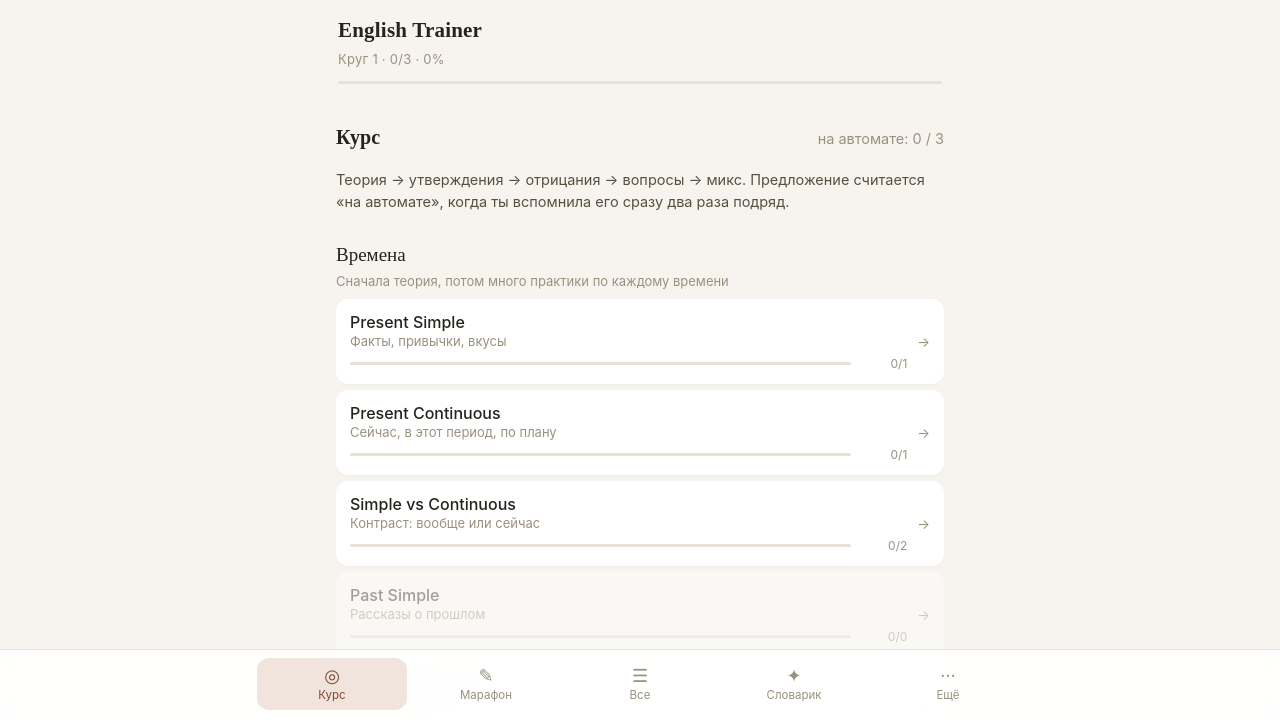
Scenario: словарик › нажатие на слово добавляет его в словарик с подсказкой перевода, удаление убирает
This screenshot has width=1280, height=720.
Click the button "✎ Марафон" at point(486, 684), box [411, 658, 561, 710]
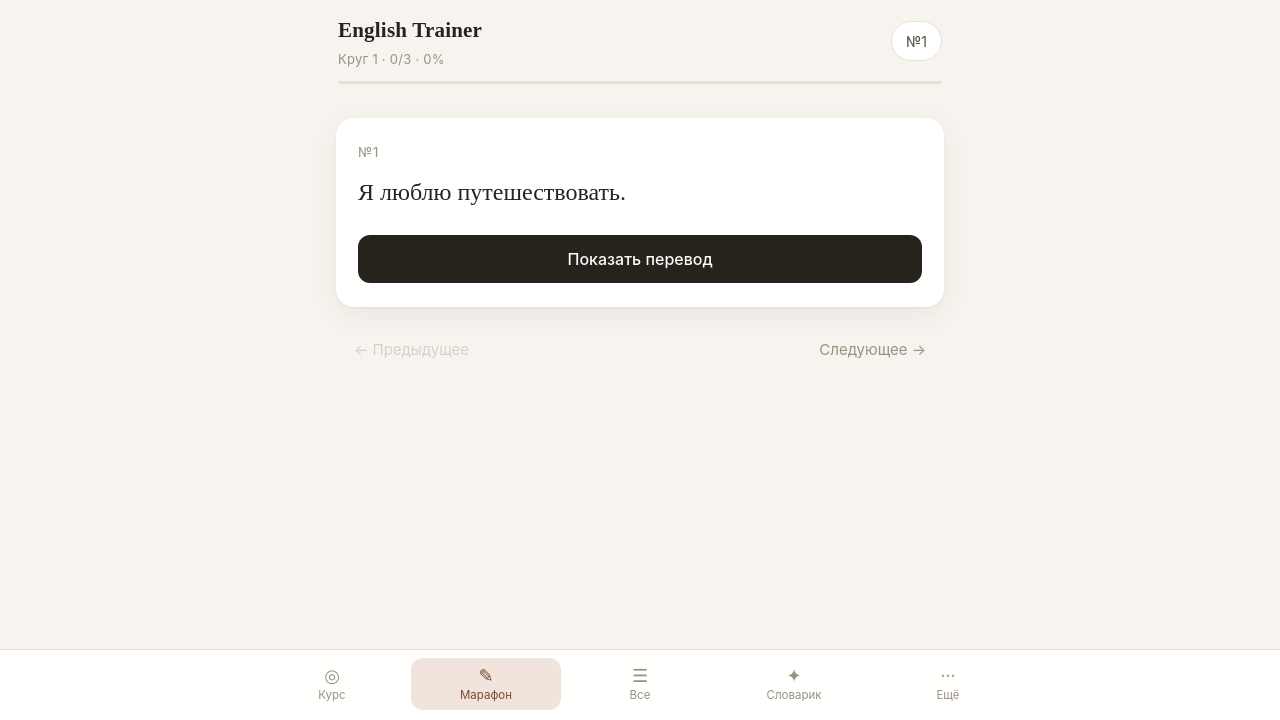
Click the button "Показать перевод" at point(640, 259), box [358, 235, 922, 283]
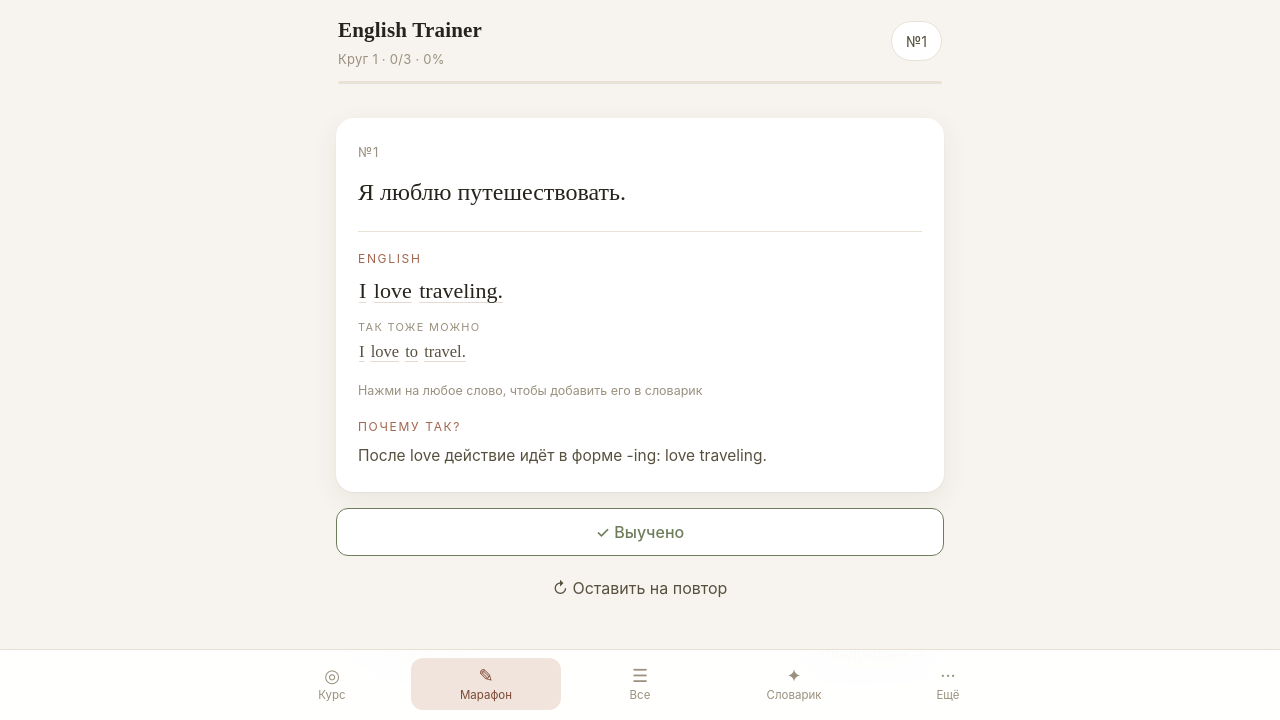
Click the button "traveling." at point(461, 291), box [418, 275, 504, 307]
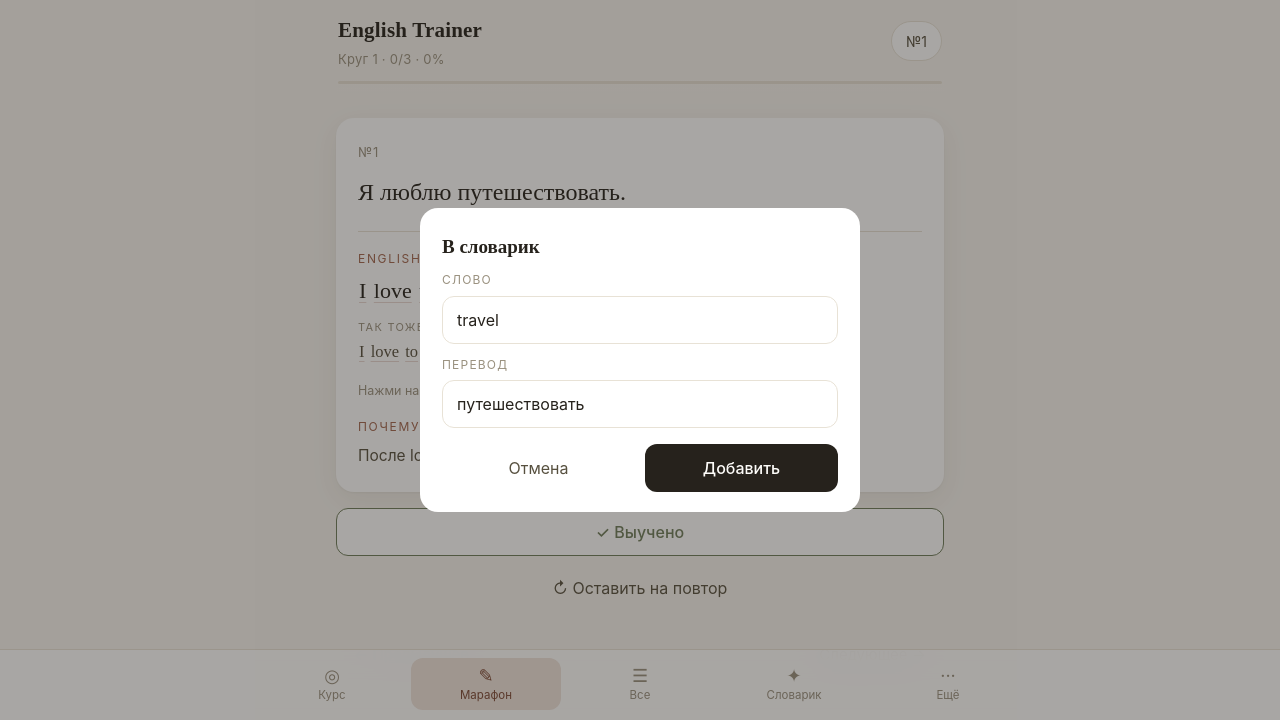
Expected: the field showing "путешествовать" is shown, [442, 380, 838, 428]
Click the button "Добавить" at point(742, 468), box [645, 444, 838, 492]
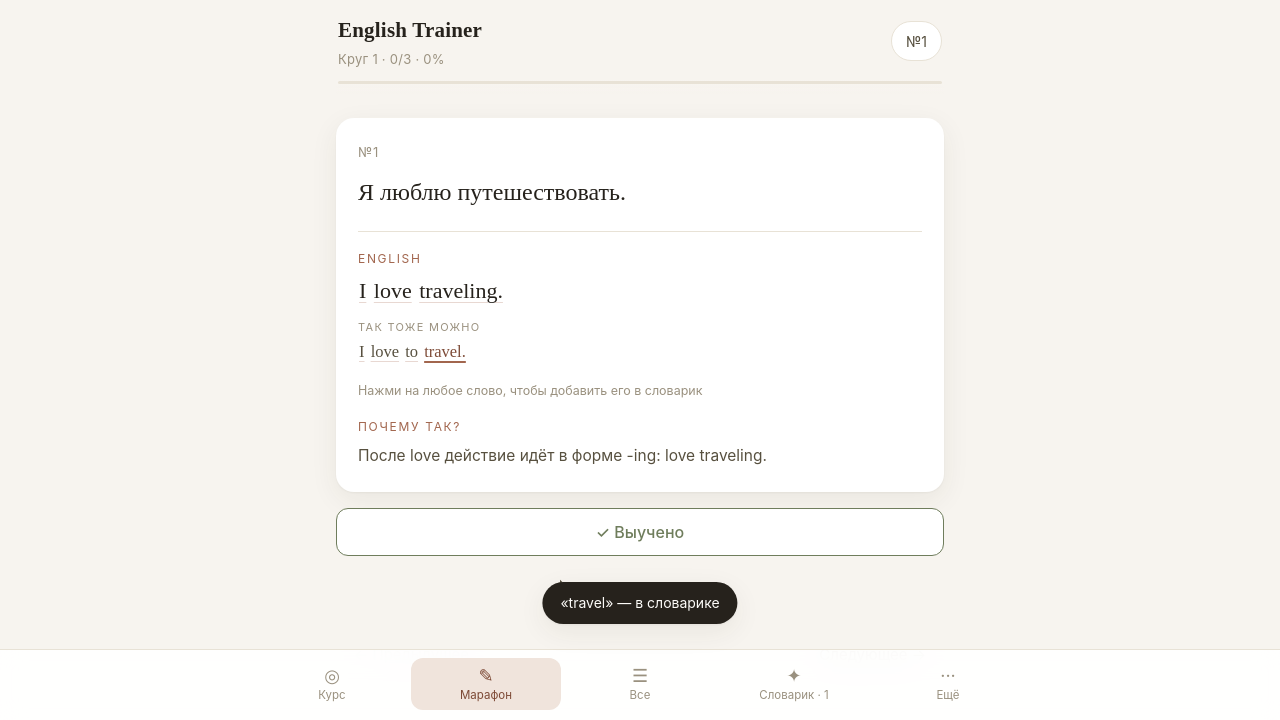
Click the button "✦ Словарик · 1" at point(794, 684), box [719, 658, 869, 710]
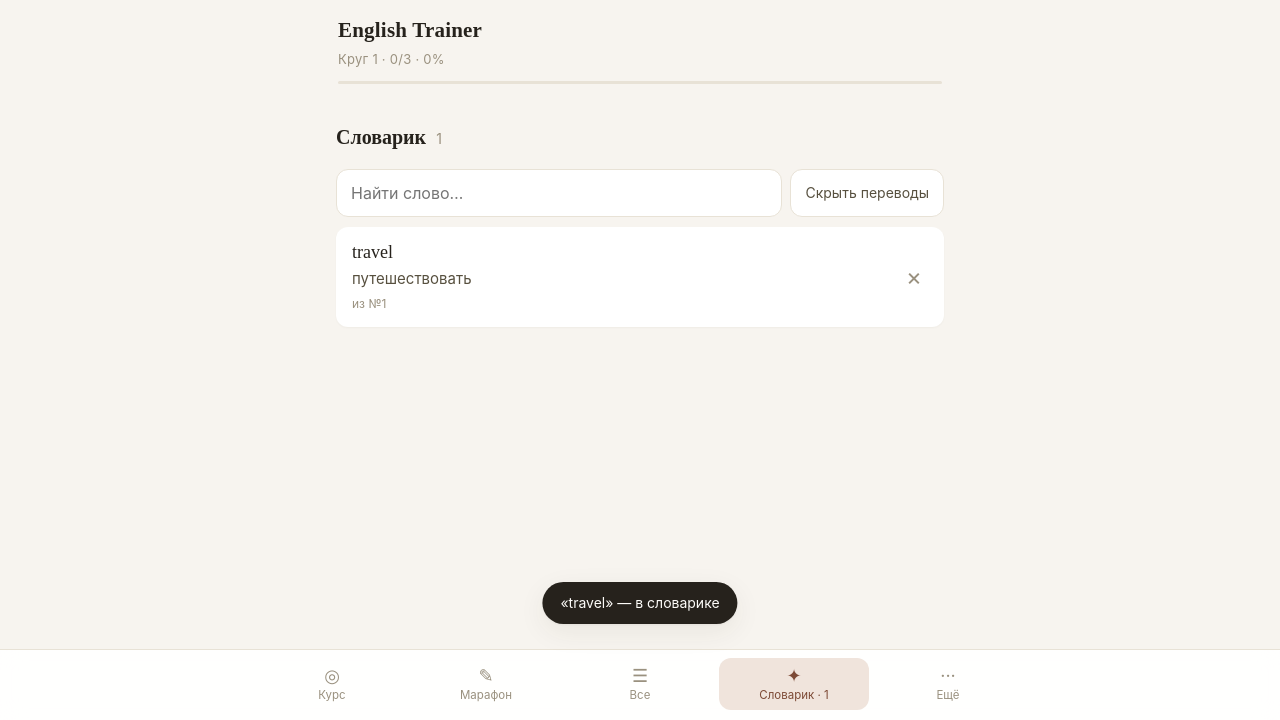
Expected: the text "путешествовать" is shown, [352, 269, 472, 288]
Click the button named "Убрать travel" at point(914, 277), box [892, 255, 936, 299]
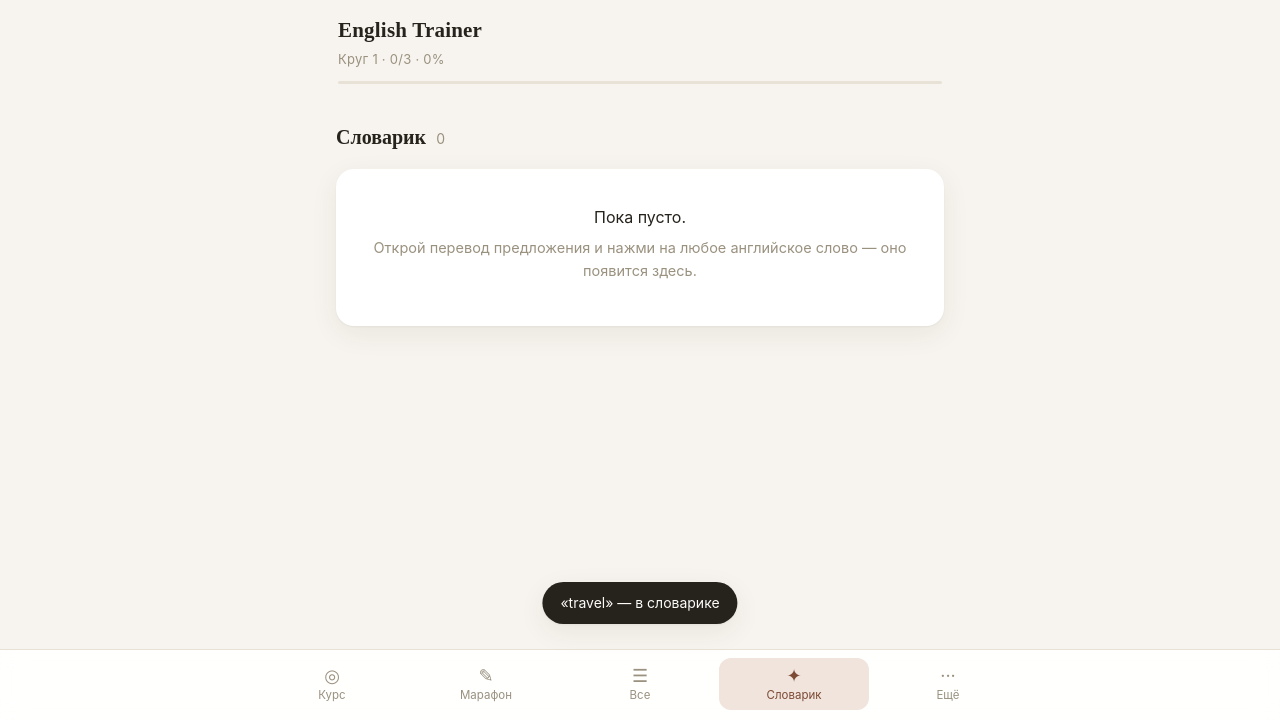
Expected: the text "Пока пусто." is shown, [594, 207, 686, 227]
